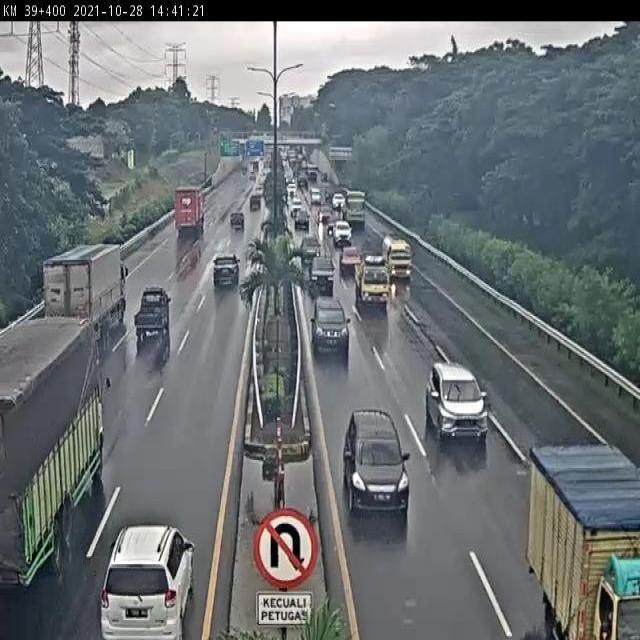car: (97, 521, 196, 640), (341, 409, 410, 516), (424, 361, 489, 443), (310, 296, 350, 356), (133, 286, 171, 342), (212, 252, 239, 288), (308, 257, 334, 292)
mid truck: (0, 321, 111, 588), (41, 243, 128, 341)
truck-m-: (353, 253, 390, 310), (381, 235, 412, 280)
